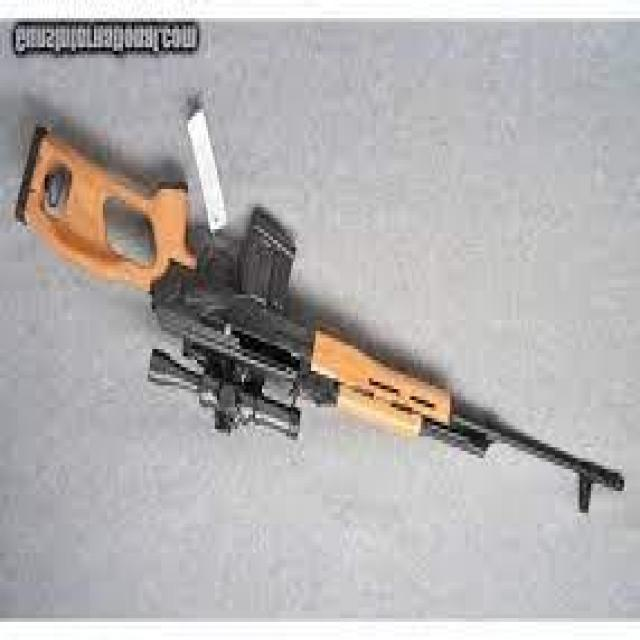weapon: (15, 122, 625, 516)
